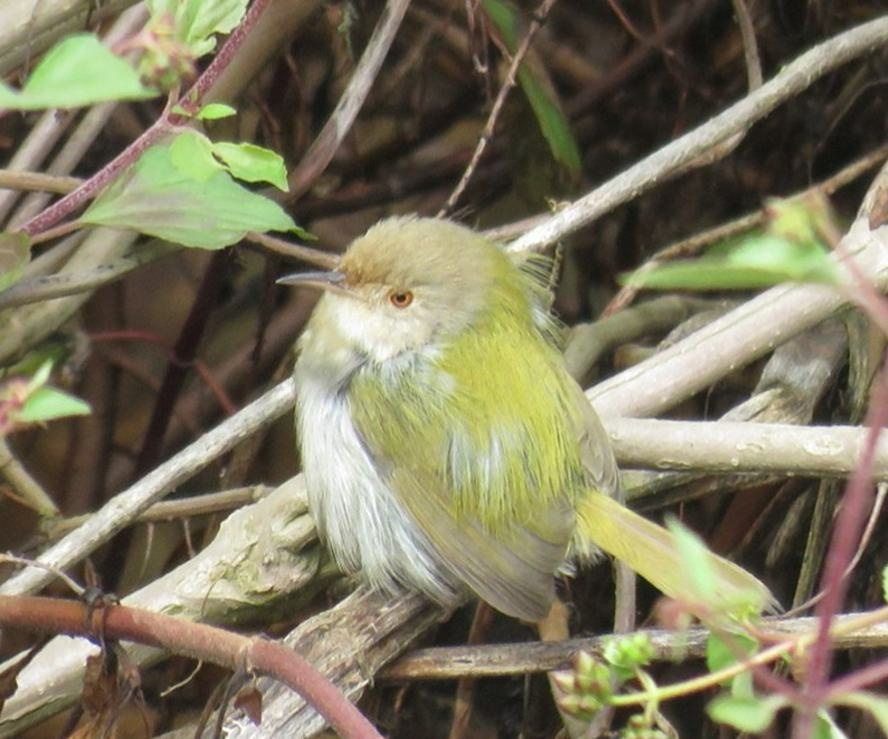tailorbird: (271, 175, 759, 629)
